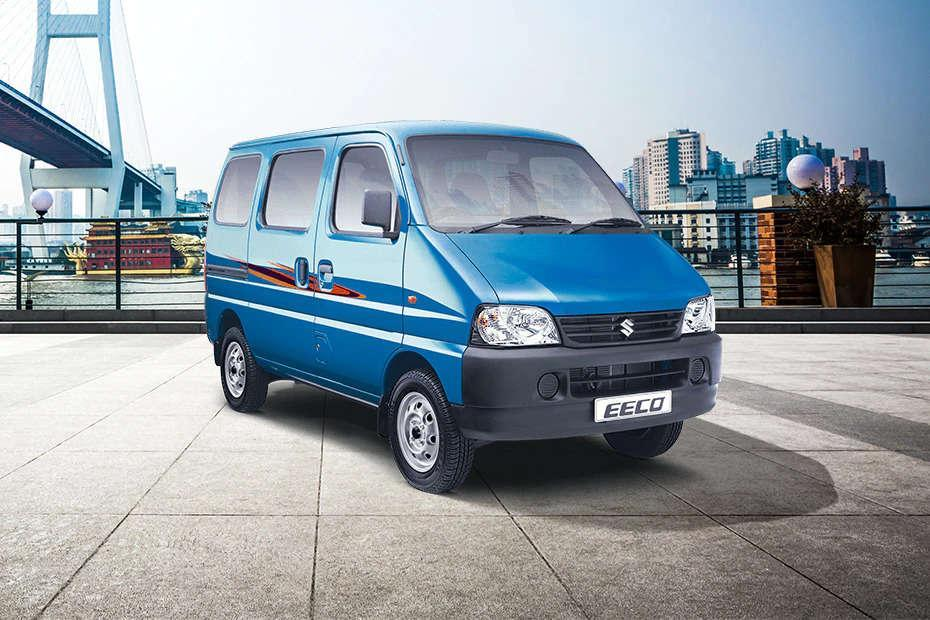car: (198, 108, 719, 498)
